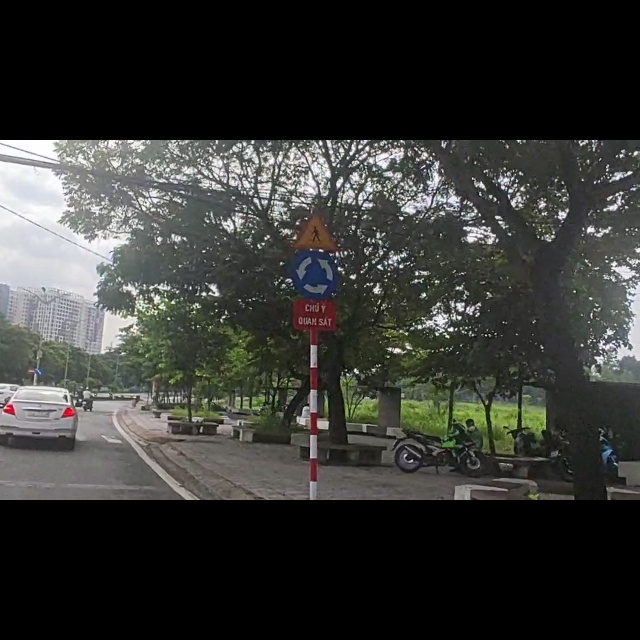bien_hieu_lenh: (291, 199, 341, 282), (291, 130, 343, 199), (35, 404, 45, 420), (27, 403, 35, 417)
